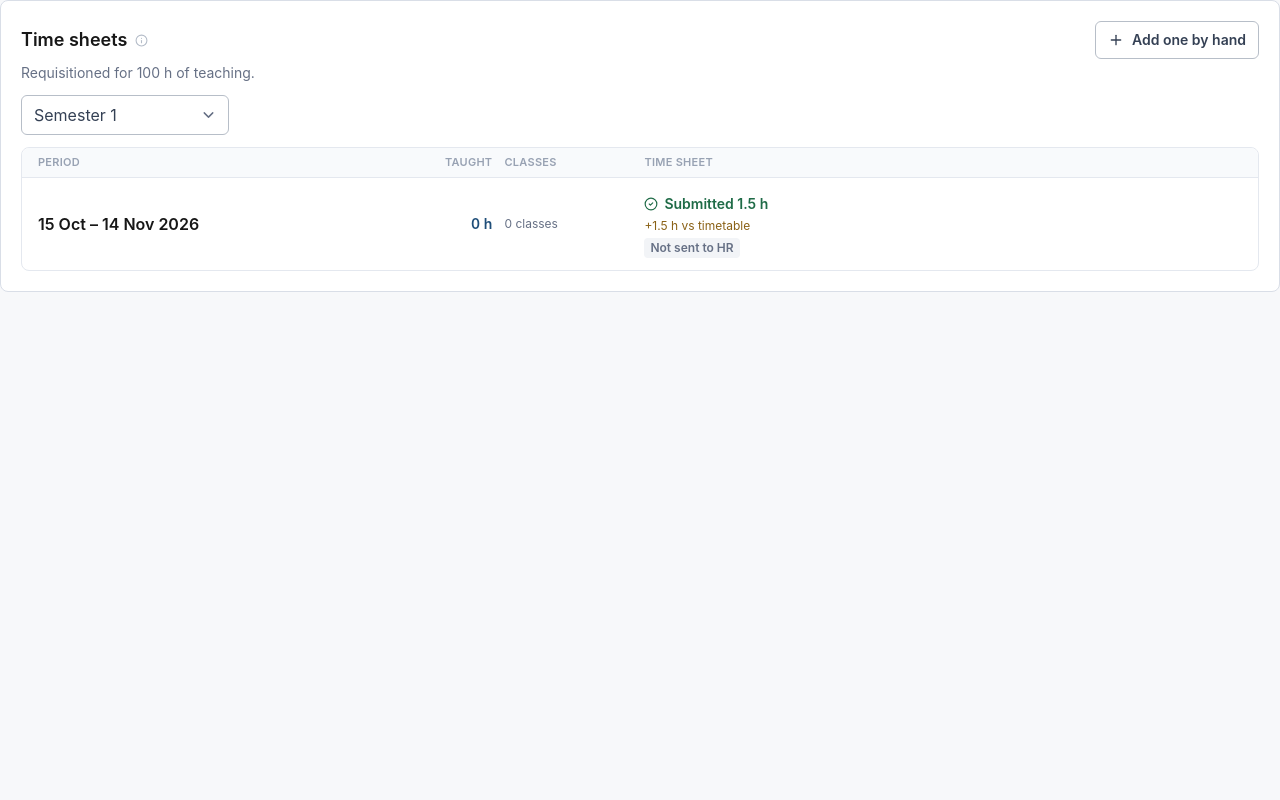
Test: opening a submitted sheet › shows the days that were worked, which the total alone asks you to take on trust
Click the button "Submitted 1.5 h".
click(706, 204)  # box [644,194,768,214]
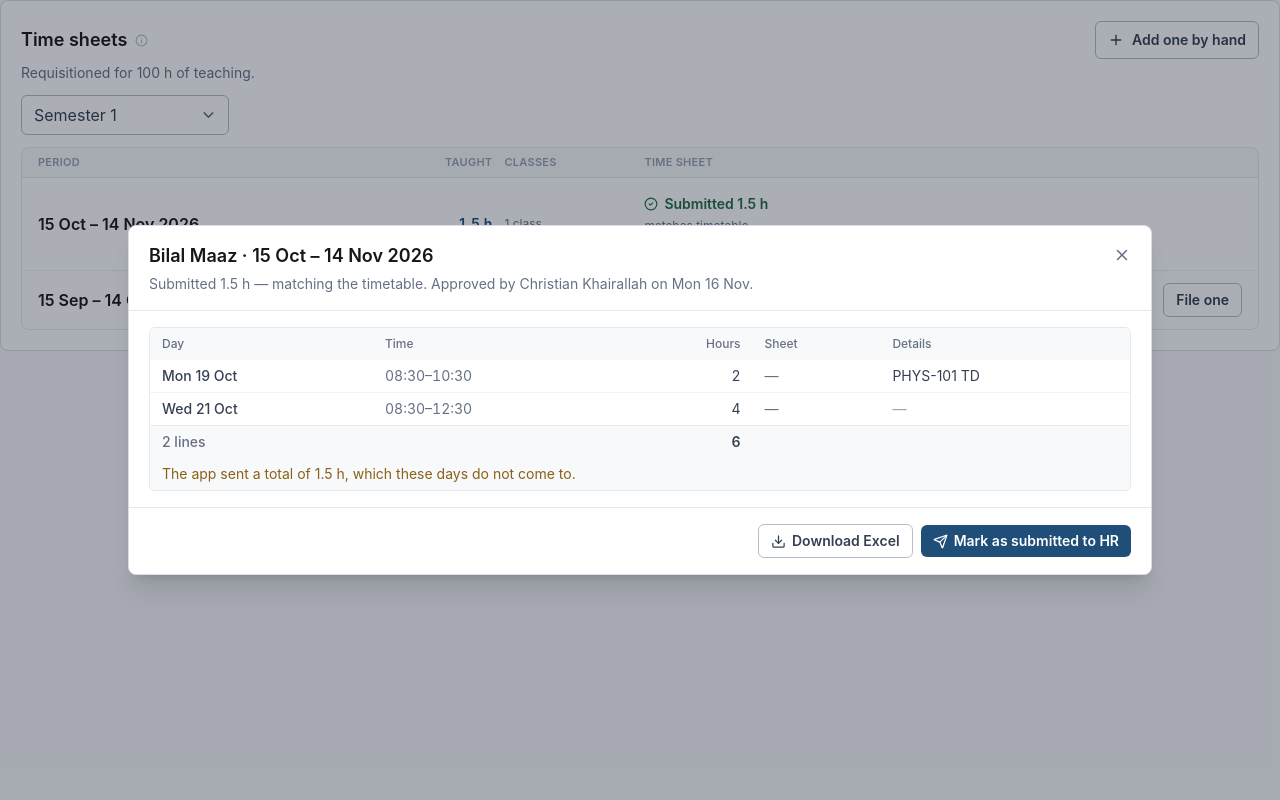
Check: the text "Mon 19 Oct" is shown, box [150,360,373,392]
Check: the text "08:30–10:30" is shown, box [373,360,622,392]
Check: the text "PHYS-101 TD" is shown, box [880,360,1130,392]
